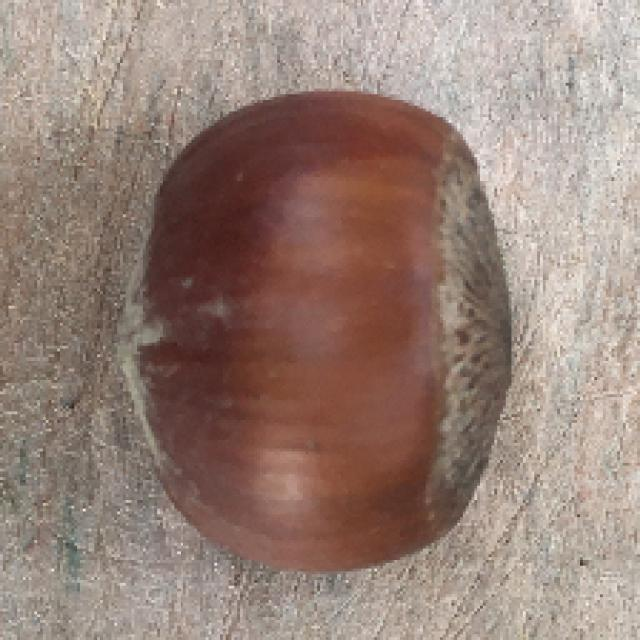damagedHazelnut: (114, 87, 530, 582)
